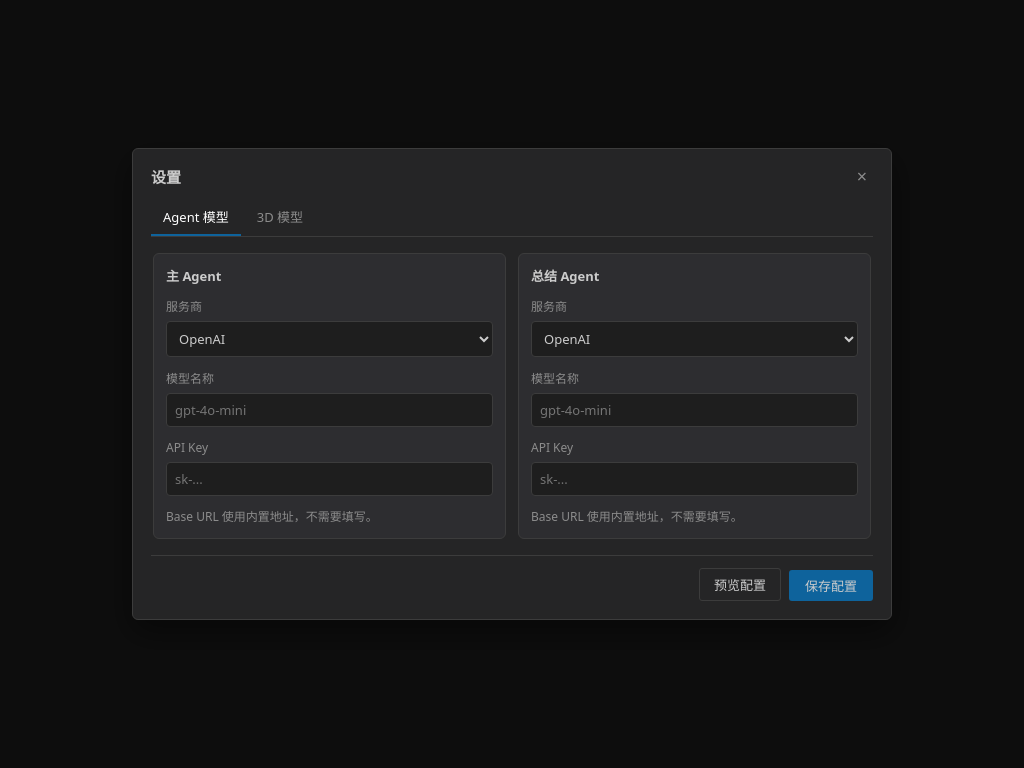
Scenario: SettingsDialog 3D 页 › shows tripo fields and the default model version
Click the button "3D 模型" at (280, 218), box [245, 199, 315, 236]
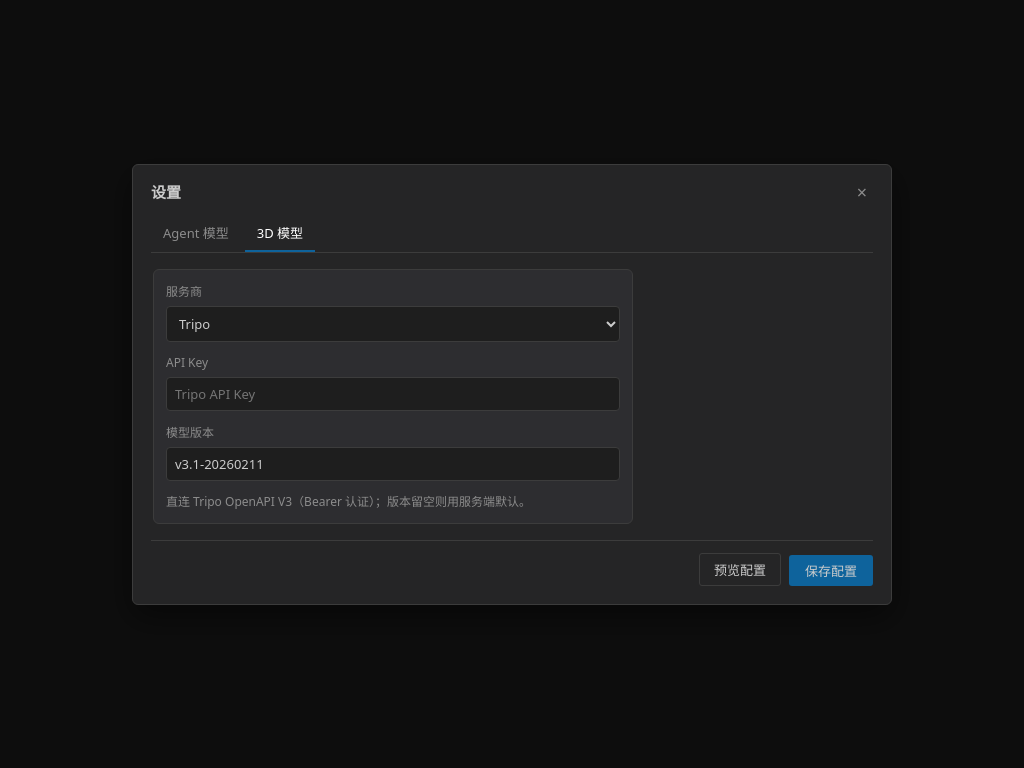
Now the field labelled "模型版本" holds "v3.1-20260211", box [166, 446, 620, 480]
